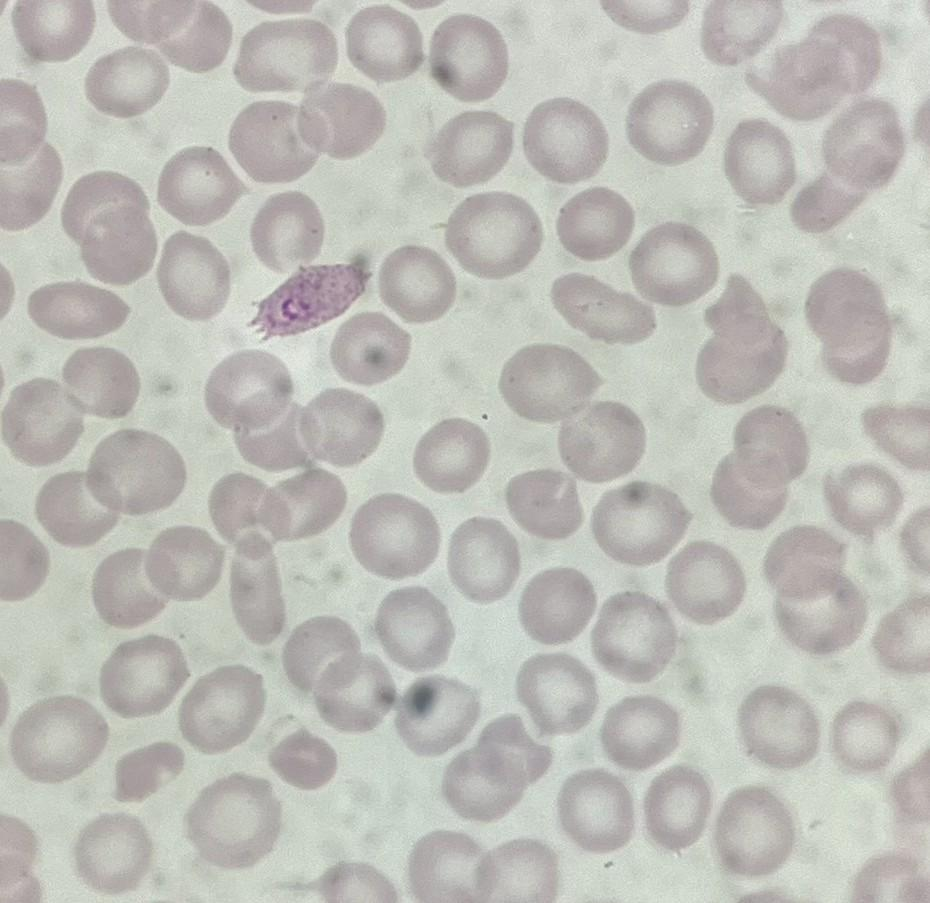Infected: (244, 263, 376, 340)
Uninfected: (747, 14, 882, 120), (692, 274, 787, 403), (59, 169, 160, 282), (441, 716, 550, 820), (801, 267, 894, 386), (212, 465, 343, 549), (183, 774, 280, 869), (83, 429, 185, 518), (442, 191, 540, 278), (10, 696, 106, 783), (301, 648, 397, 735), (552, 269, 657, 346), (504, 345, 605, 425), (228, 97, 323, 182), (589, 481, 686, 564), (233, 18, 338, 94), (347, 492, 439, 578), (773, 571, 867, 655), (174, 665, 264, 752), (818, 97, 903, 189), (98, 636, 189, 721), (202, 348, 293, 432), (591, 591, 677, 678), (626, 79, 714, 163), (627, 220, 717, 302), (280, 617, 367, 701), (295, 83, 386, 163), (3, 377, 87, 463), (763, 525, 850, 608), (558, 401, 647, 482), (712, 785, 792, 875), (520, 99, 607, 181), (390, 673, 479, 753), (737, 685, 821, 769), (156, 146, 244, 226), (371, 585, 454, 669), (428, 14, 509, 100), (428, 108, 516, 187), (296, 388, 384, 467), (514, 652, 597, 734), (662, 539, 743, 622), (226, 535, 288, 643), (35, 470, 120, 548), (154, 233, 231, 319), (708, 453, 794, 530), (727, 404, 807, 486), (555, 769, 634, 852), (74, 812, 154, 892), (138, 2, 229, 72), (91, 547, 169, 628), (85, 46, 171, 119), (141, 523, 222, 600), (553, 185, 635, 261), (59, 345, 141, 421), (597, 693, 679, 769), (26, 280, 129, 340), (516, 567, 595, 645), (375, 245, 456, 321), (328, 311, 411, 385), (639, 767, 711, 852), (722, 120, 795, 203), (248, 190, 325, 268), (343, 6, 423, 81), (445, 517, 519, 598), (1, 138, 65, 230), (791, 170, 876, 239), (411, 418, 489, 492), (504, 466, 585, 537), (823, 463, 902, 535), (230, 404, 310, 474), (407, 830, 486, 897), (470, 839, 553, 901), (701, 0, 780, 61), (829, 699, 897, 769), (13, 1, 91, 62), (266, 727, 339, 791), (113, 739, 185, 803), (870, 595, 928, 672), (0, 516, 50, 602), (862, 403, 928, 468)
